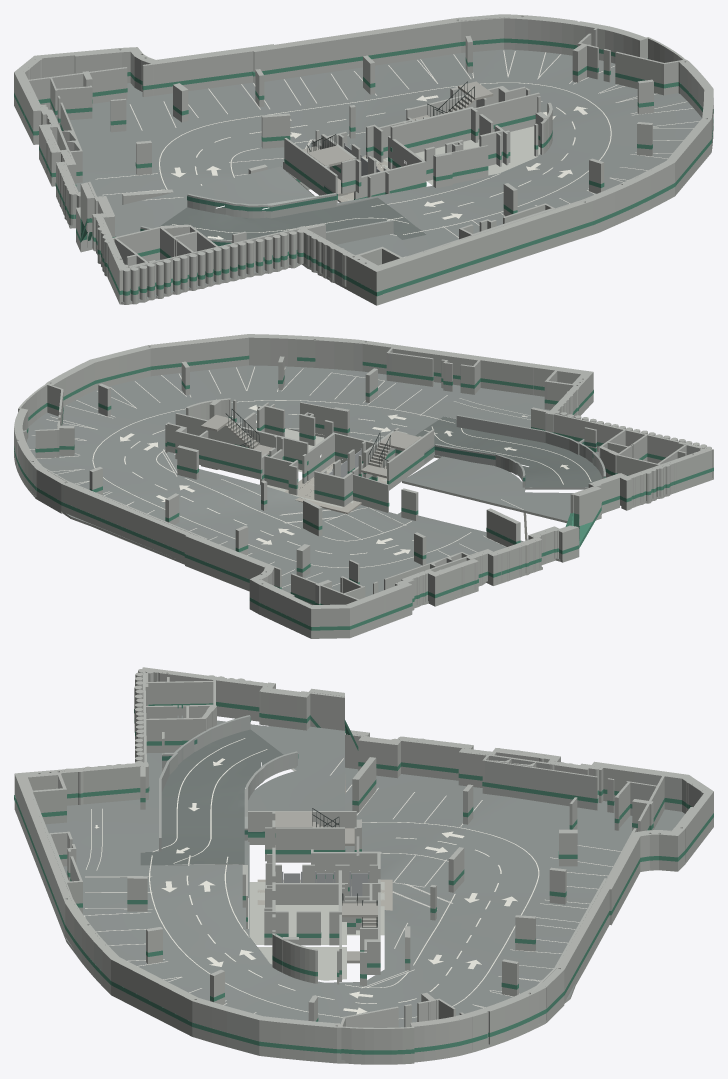
The model's file is B01-overview.glb.
3 views of the same model, one above another, from view 1: azimuth 30°, elevation 25°; view 2: azimuth 150°, elevation 25°; view 3: azimuth 270°, elevation 25° (orthographic). The views are drawn at different scales.
Parts seen in each view (by area): view 1: SOURCE GRADES | north floor, SOURCE GRADES | south floor, SOURCE WALL | 178, SOURCE WALL | 186, SOURCE GRADES | interpolated floor, SOURCE WALL | 187, SOURCE WALL | 430, SOURCE WALL | 424, SOURCE WALL | 55, SOURCE WALL | 153, SOURCE WALL | 429, SOURCE WALL | 65 (+43 smaller); view 2: SOURCE GRADES | north floor, SOURCE GRADES | south floor, SOURCE GRADES | interpolated floor, SOURCE WALL | 183, SOURCE WALL | 437, SOURCE WALL | 429, SOURCE WALL | 184, SOURCE WALL | 180, SOURCE WALL | 399, SOURCE WALL | 61, SOURCE WALL | 428, SOURCE WALL | 1140 (+43 smaller); view 3: SOURCE GRADES | north floor, SOURCE GRADES | south floor, SOURCE GRADES | interpolated floor, SOURCE WALL | 800, SOURCE WALL | 429, SOURCE WALL | 424, SOURCE WALL | 427, SOURCE WALL | 178, SOURCE WALL | 153, SOURCE WALL | 428, SOURCE WALL | 183, SOURCE WALL | 430 (+37 smaller).
Part boxes in pixels (box(x1,y1,x2,y2)): SOURCE GRADES | north floor: box(49, 49, 661, 247); SOURCE GRADES | south floor: box(111, 93, 701, 302); SOURCE WALL | 178: box(378, 201, 593, 301); SOURCE WALL | 186: box(253, 21, 461, 83); SOURCE GRADES | interpolated floor: box(159, 197, 426, 239); SOURCE WALL | 187: box(153, 47, 275, 95); SOURCE WALL | 430: box(575, 161, 674, 231); SOURCE WALL | 424: box(494, 14, 596, 55); SOURCE WALL | 55: box(390, 107, 470, 158); SOURCE WALL | 153: box(296, 226, 382, 302); SOURCE WALL | 429: box(666, 118, 711, 193); SOURCE WALL | 65: box(474, 92, 539, 139); SOURCE GRADES | north floor: box(27, 413, 559, 605); SOURCE GRADES | south floor: box(46, 365, 664, 520); SOURCE GRADES | interpolated floor: box(415, 416, 602, 487); SOURCE WALL | 183: box(61, 481, 190, 562); SOURCE WALL | 437: box(248, 337, 366, 371); SOURCE WALL | 429: box(148, 334, 248, 376); SOURCE WALL | 184: box(185, 534, 266, 588); SOURCE WALL | 180: box(480, 359, 552, 396); SOURCE WALL | 399: box(259, 582, 319, 636); SOURCE WALL | 61: box(198, 436, 261, 479); SOURCE WALL | 428: box(90, 345, 150, 389); SOURCE WALL | 1140: box(586, 420, 703, 463); SOURCE GRADES | north floor: box(345, 767, 684, 1044); SOURCE GRADES | south floor: box(45, 715, 344, 1060); SOURCE GRADES | interpolated floor: box(140, 729, 283, 865); SOURCE WALL | 800: box(485, 760, 597, 810); SOURCE WALL | 429: box(111, 957, 198, 1033); SOURCE WALL | 424: box(467, 982, 546, 1049); SOURCE WALL | 427: box(259, 1016, 337, 1060); SOURCE WALL | 178: box(16, 776, 68, 935); SOURCE WALL | 153: box(14, 762, 148, 809); SOURCE WALL | 428: box(192, 998, 262, 1052); SOURCE WALL | 183: box(557, 888, 609, 1002); SOURCE WALL | 430: box(65, 893, 117, 991).
Size of what is drawn, in the model's own units: 59.76 by 6.12 by 51.79.
